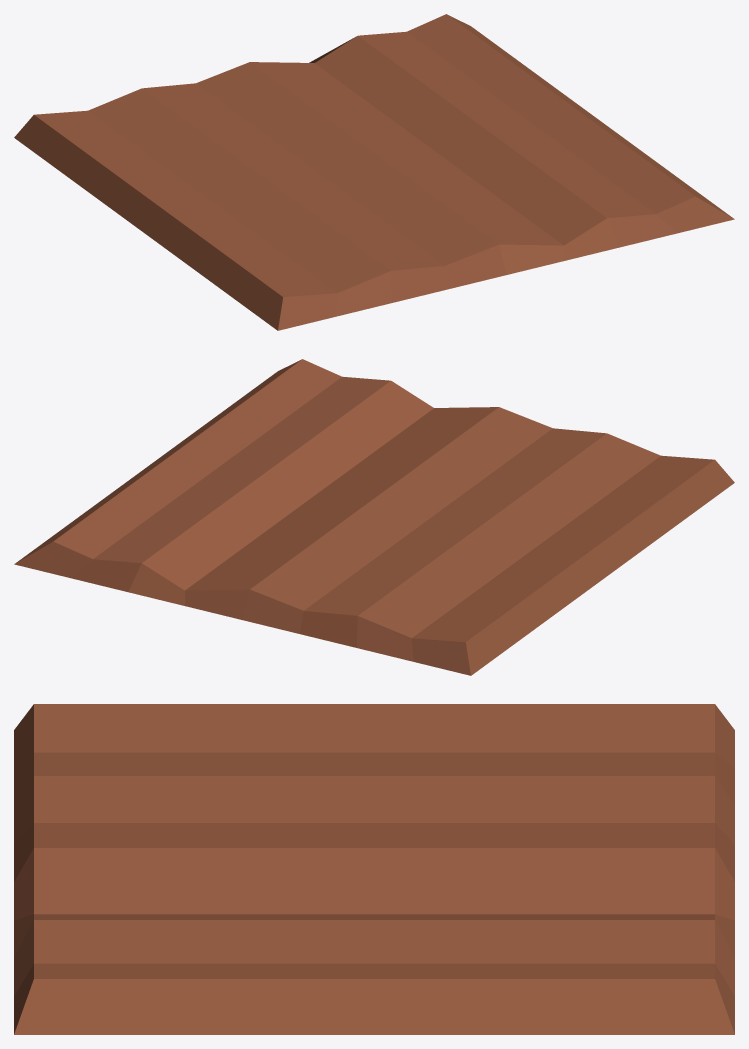
The model's file is TilledGround.fbx.
The picture shows the model from 3 angles, top to bottom: view 1: azimuth 30°, elevation 25°; view 2: azimuth 150°, elevation 25°; view 3: azimuth 270°, elevation 25°; orthographic projection. The views are drawn at different scales.
Parts seen in each view (by area): view 1: Cube; view 2: Cube; view 3: Cube.
Boxes of the visible parts, box(x1,y1,x2,y2) form: Cube: box(14, 14, 734, 330); Cube: box(14, 359, 734, 675); Cube: box(14, 704, 734, 1034).
Bounding box in the file's own units: 100 × 5.29 × 100.
